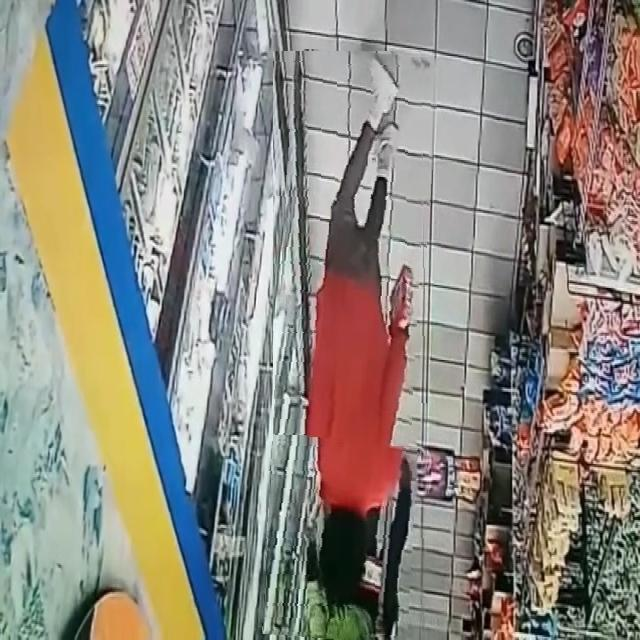normal: (273, 51, 430, 640), (266, 441, 418, 640)
